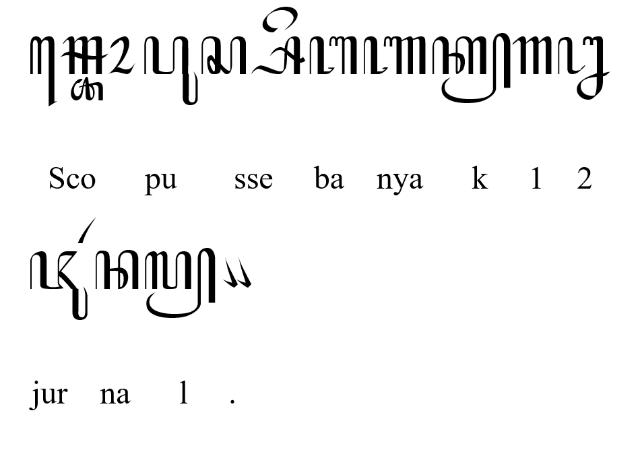-k: (431, 32, 511, 104)
-l: (144, 246, 216, 320)
S: (60, 36, 108, 74)
_c: (70, 76, 104, 102)
_r1: (78, 216, 96, 244)
_s: (250, 35, 306, 75)
b: (310, 35, 358, 75)
e: (262, 6, 298, 32)
e1: (29, 36, 56, 106)
g: (512, 35, 552, 75)
ju: (28, 251, 88, 321)
kom: (222, 256, 238, 288), (236, 256, 252, 288)
n: (94, 249, 140, 290)
ngna: (556, 35, 610, 101)
ny1: (362, 34, 426, 76)
o: (108, 35, 136, 75)
pu: (142, 36, 198, 106)
s: (201, 35, 247, 75)
